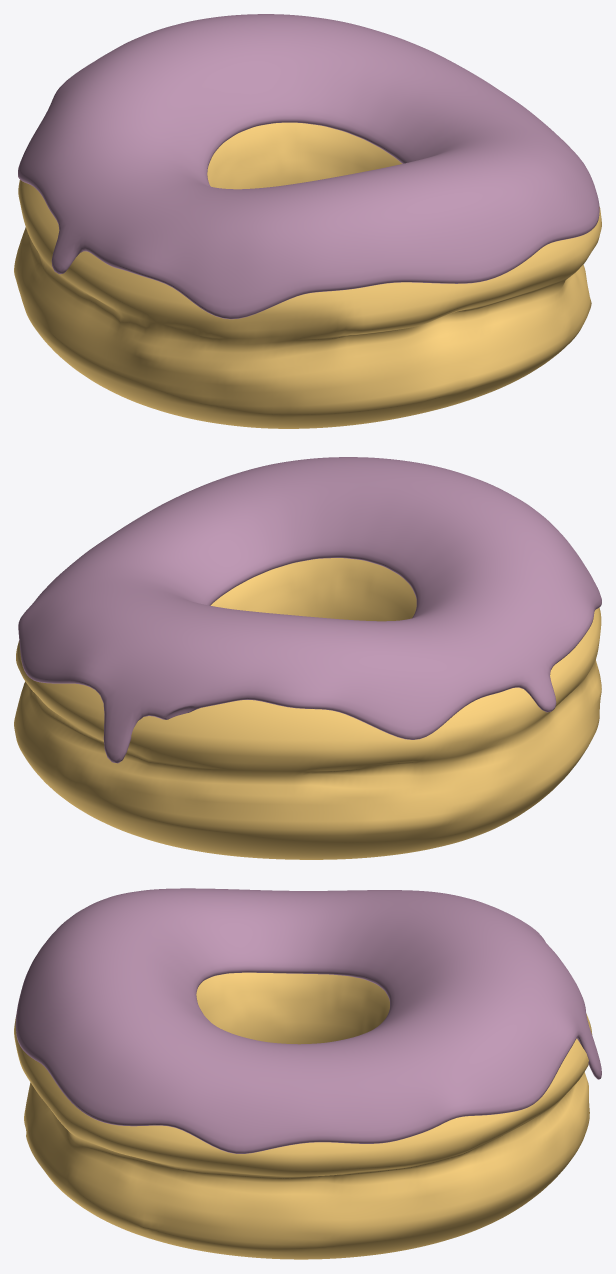
Rendered from donut.glb.
3 views of the same model, one above another, from view 1: azimuth 30°, elevation 25°; view 2: azimuth 150°, elevation 25°; view 3: azimuth 270°, elevation 25° (orthographic). The views are drawn at different scales.
Parts seen in each view (by area): view 1: Icing, Donut; view 2: Icing, Donut; view 3: Icing, Donut.
Part boxes in pixels (x1,y1,x2,y2): Icing: [18, 14, 599, 319]; Donut: [14, 122, 601, 428]; Icing: [18, 457, 601, 763]; Donut: [14, 558, 601, 859]; Icing: [15, 888, 601, 1153]; Donut: [14, 972, 592, 1259].
Bounding box in the file's own units: 0.1358 × 0.0619 × 0.1461.
